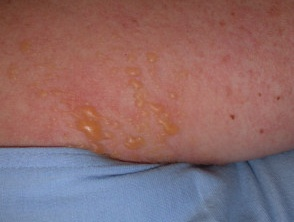SJS-TEN: (18, 30, 199, 203)
